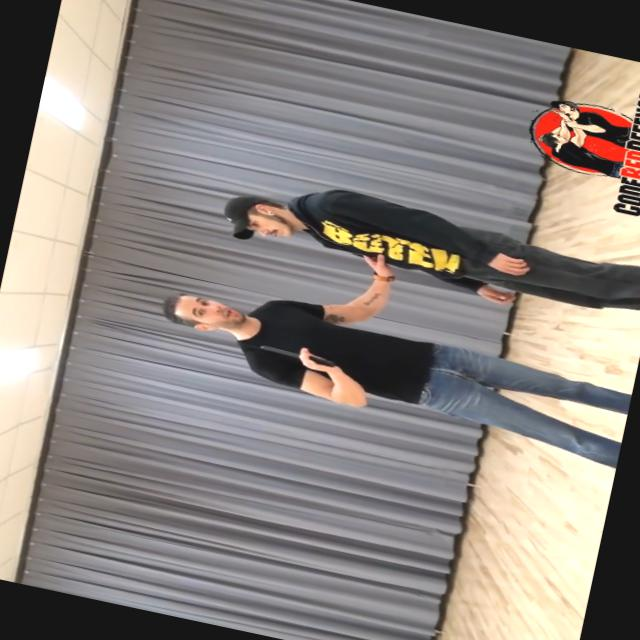knife: (255, 336, 336, 371)
